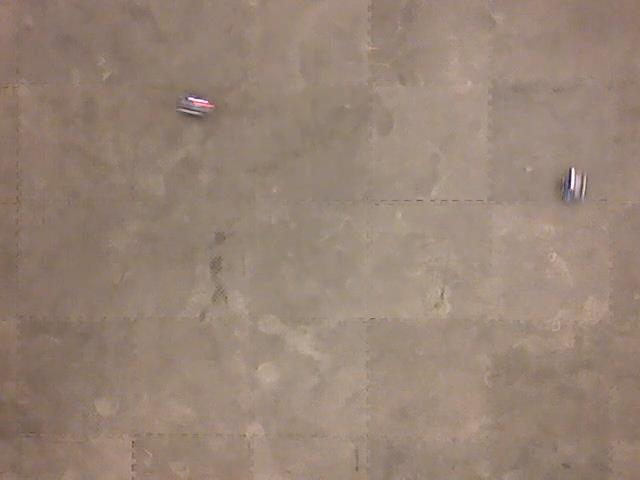Agent: (559, 164, 589, 206), (175, 91, 216, 120)
